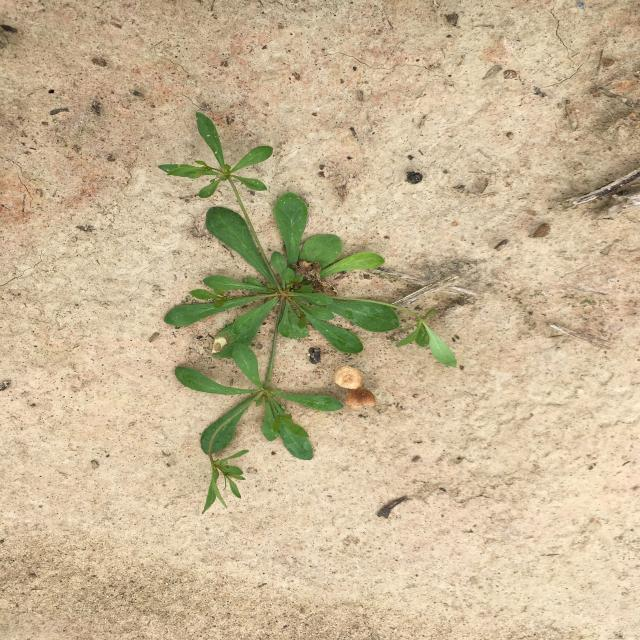Carpetweed: (157, 111, 458, 515)
